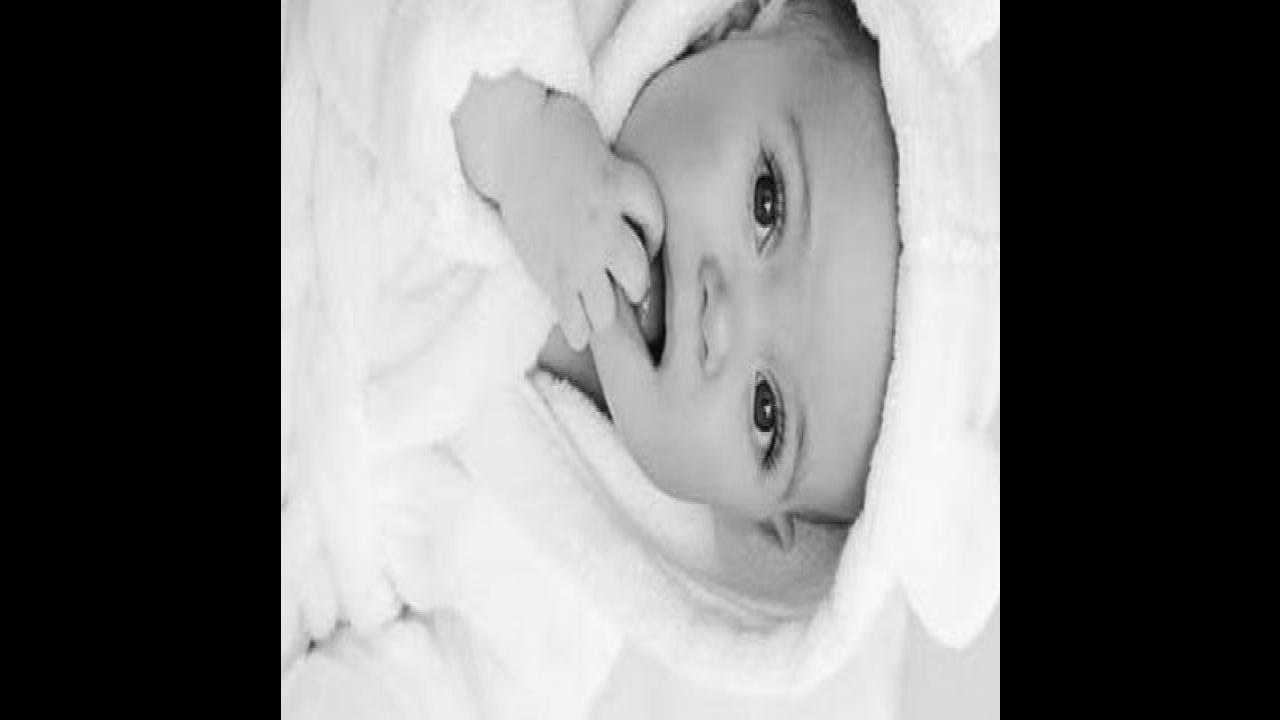hand: (489, 78, 665, 354)
